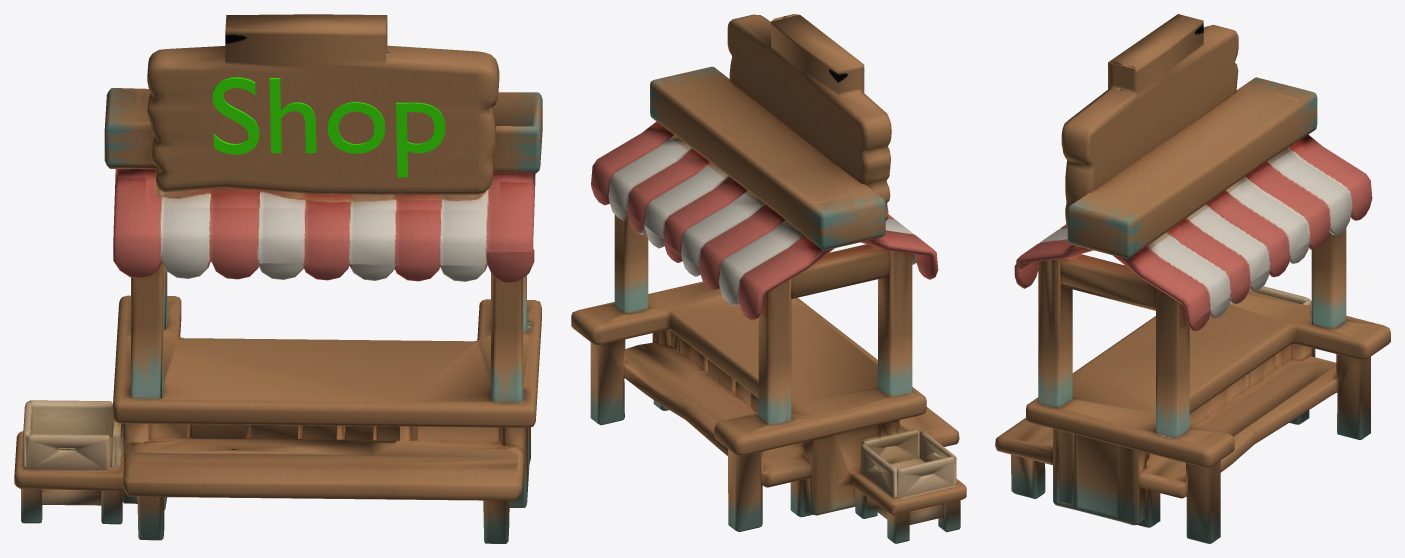
File: shop.fbx
The picture shows the model from 3 angles, left to right: view 1: azimuth 30°, elevation 25°; view 2: azimuth 150°, elevation 25°; view 3: azimuth 270°, elevation 25°; orthographic projection. The views are drawn at different scales.
Parts seen in each view (by area): view 1: Shop; view 2: Shop; view 3: Shop.
Boxes of the visible parts, x1=… form: Shop: x1=14, y1=14, x2=542, y2=543; Shop: x1=571, y1=14, x2=966, y2=543; Shop: x1=995, y1=14, x2=1390, y2=543.
Bounding box in the file's own units: 227 × 212 × 187.
